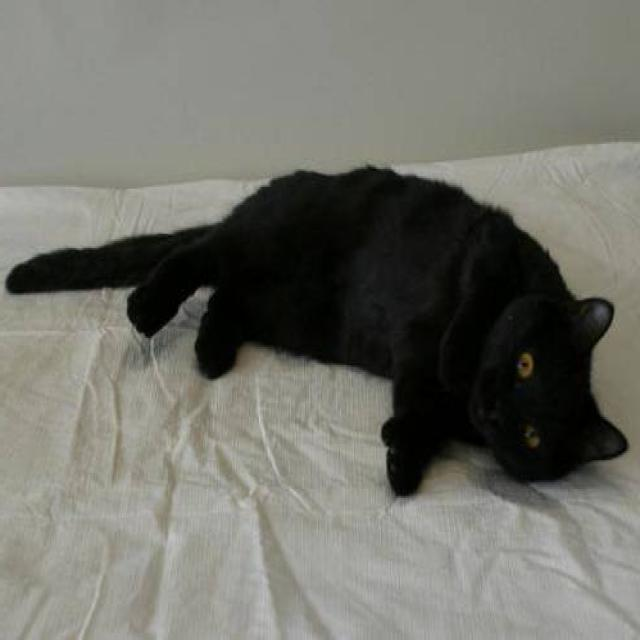Kucing: (0, 153, 635, 505)
